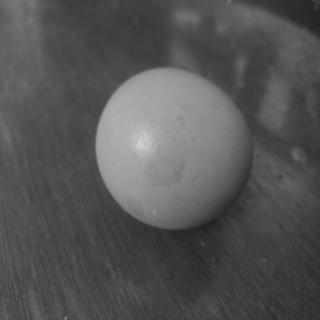Telur: (91, 64, 260, 234)
